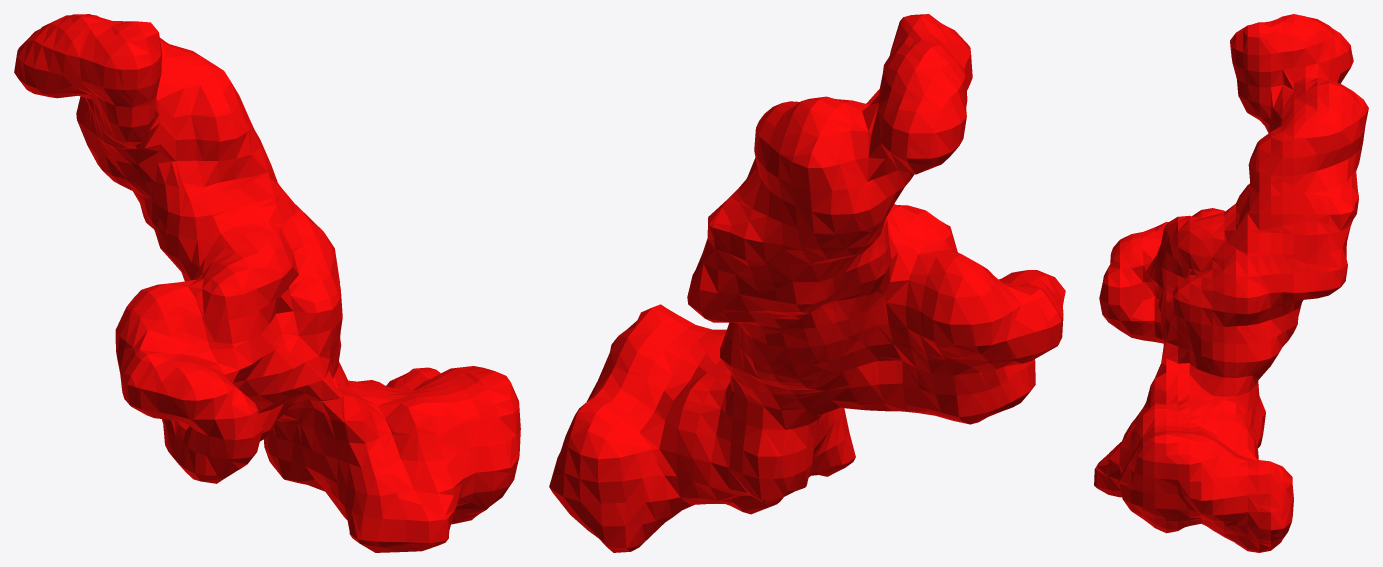
Rendered from dnaJ_coarse.dae.
The picture shows the model from 3 angles, left to right: view 1: azimuth 30°, elevation 25°; view 2: azimuth 150°, elevation 25°; view 3: azimuth 270°, elevation 25°; orthographic projection. The views are drawn at different scales.
Parts seen in each view (by area): view 1: dnaJ; view 2: dnaJ; view 3: dnaJ.
Boxes of the visible parts, x1=… form: dnaJ: x1=14, y1=14, x2=520, y2=552; dnaJ: x1=549, y1=14, x2=1065, y2=552; dnaJ: x1=1094, y1=14, x2=1368, y2=552.
Bounding box in the file's own units: 80.26 × 103 × 60.28.
